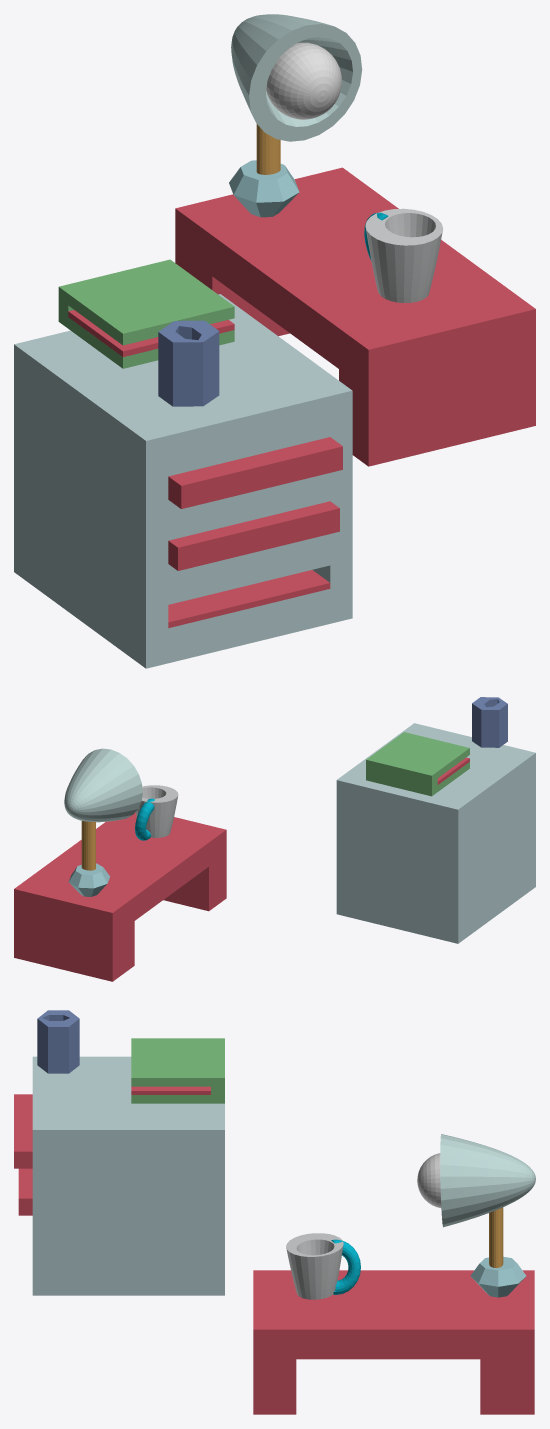
The model's file is table.glb.
The picture shows the model from 3 angles, top to bottom: view 1: azimuth 30°, elevation 25°; view 2: azimuth 150°, elevation 25°; view 3: azimuth 270°, elevation 25°; orthographic projection. The views are drawn at different scales.
Parts seen in each view (by area): view 1: Mesh_Mesh_head_geo.001_lambert2SG.001; view 2: Mesh_Mesh_head_geo.001_lambert2SG.001; view 3: Mesh_Mesh_head_geo.001_lambert2SG.001.
Boxes of the visible parts, bbox=[...] form: Mesh_Mesh_head_geo.001_lambert2SG.001: bbox=[14, 14, 535, 668]; Mesh_Mesh_head_geo.001_lambert2SG.001: bbox=[14, 697, 535, 981]; Mesh_Mesh_head_geo.001_lambert2SG.001: bbox=[14, 1010, 535, 1414].
Size of the model in its own units: 97 by 56.64 by 111.
